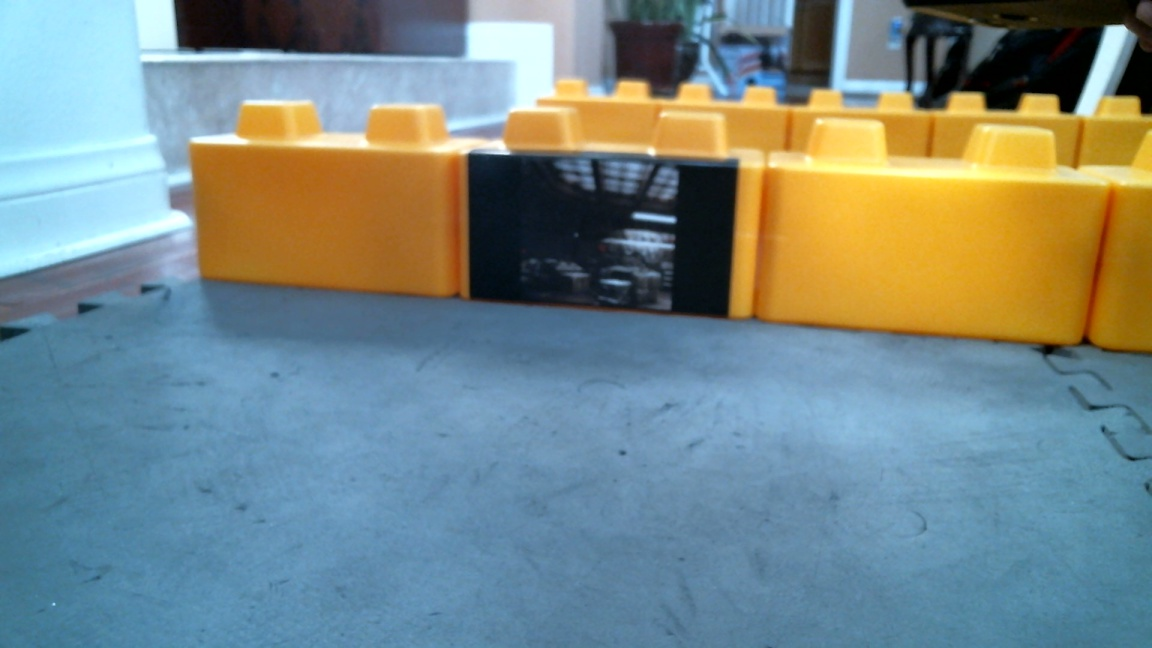skystone: (464, 105, 762, 321)
stone: (754, 117, 1109, 348), (189, 99, 465, 299)
